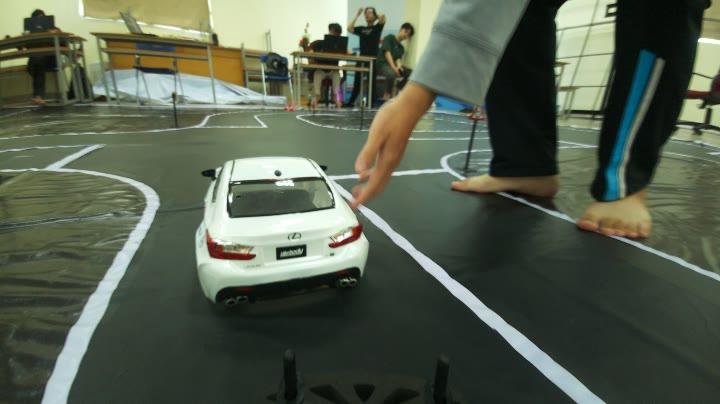car: (196, 138, 362, 316)
